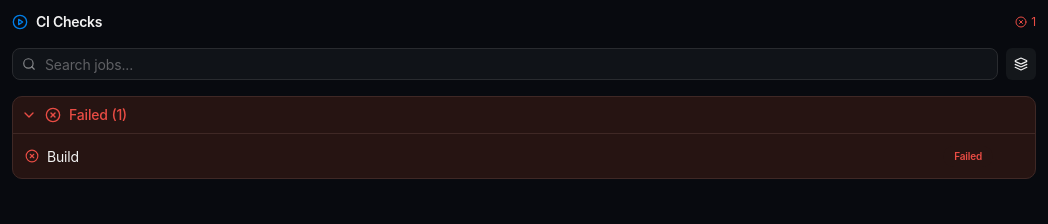
CIChecksSection › search functionality › should show "No jobs matching" message when search has no results
In the field with placeholder "Search jobs...": coordinates (505, 64) x1=12 y1=48 x2=998 y2=80, type "nonexistent"
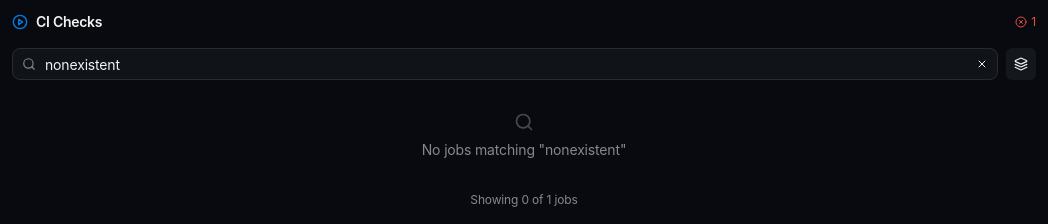
Expected: the text "No jobs matching \"nonexistent\"" is shown, x1=422 y1=112 x2=626 y2=158
